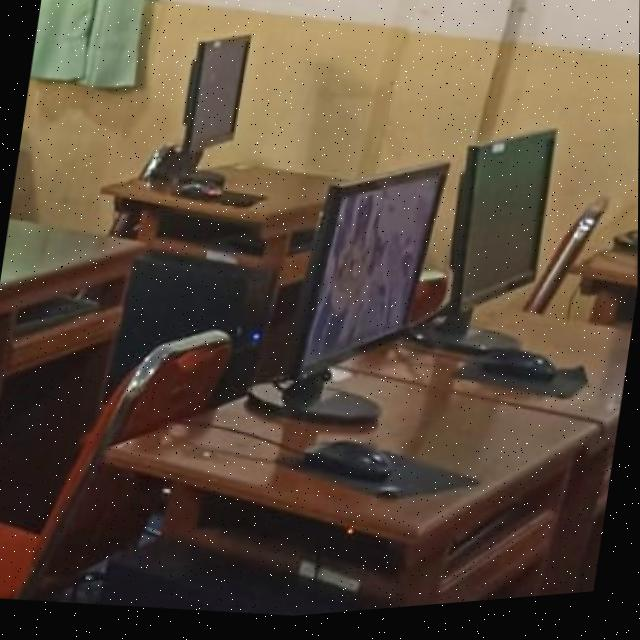offscreen: (450, 139, 553, 320), (182, 40, 250, 156)
onscreen: (298, 172, 449, 379)
